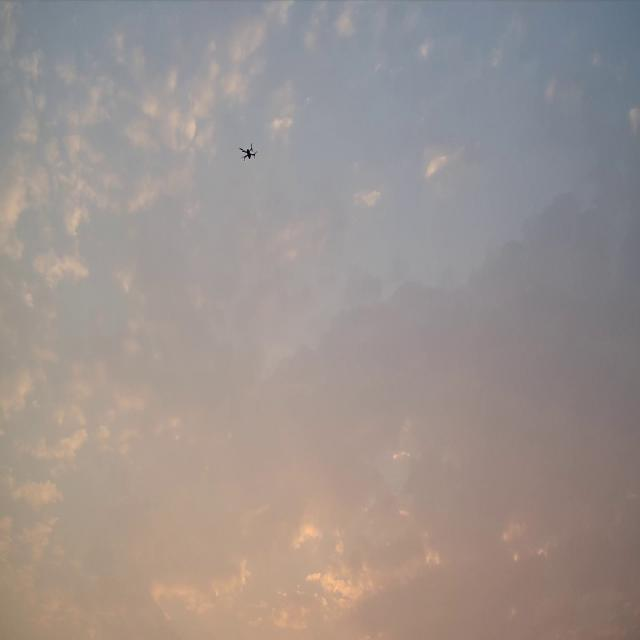drone: (238, 143, 258, 161)
